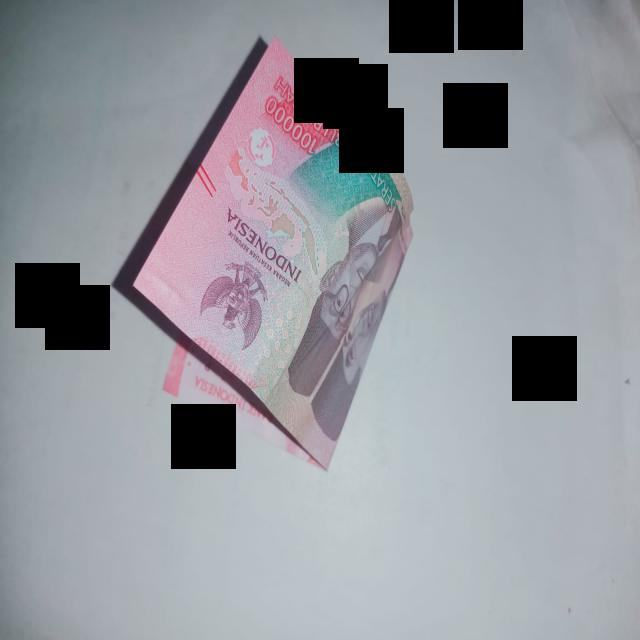seratusribu rupiah: (135, 38, 412, 467)
